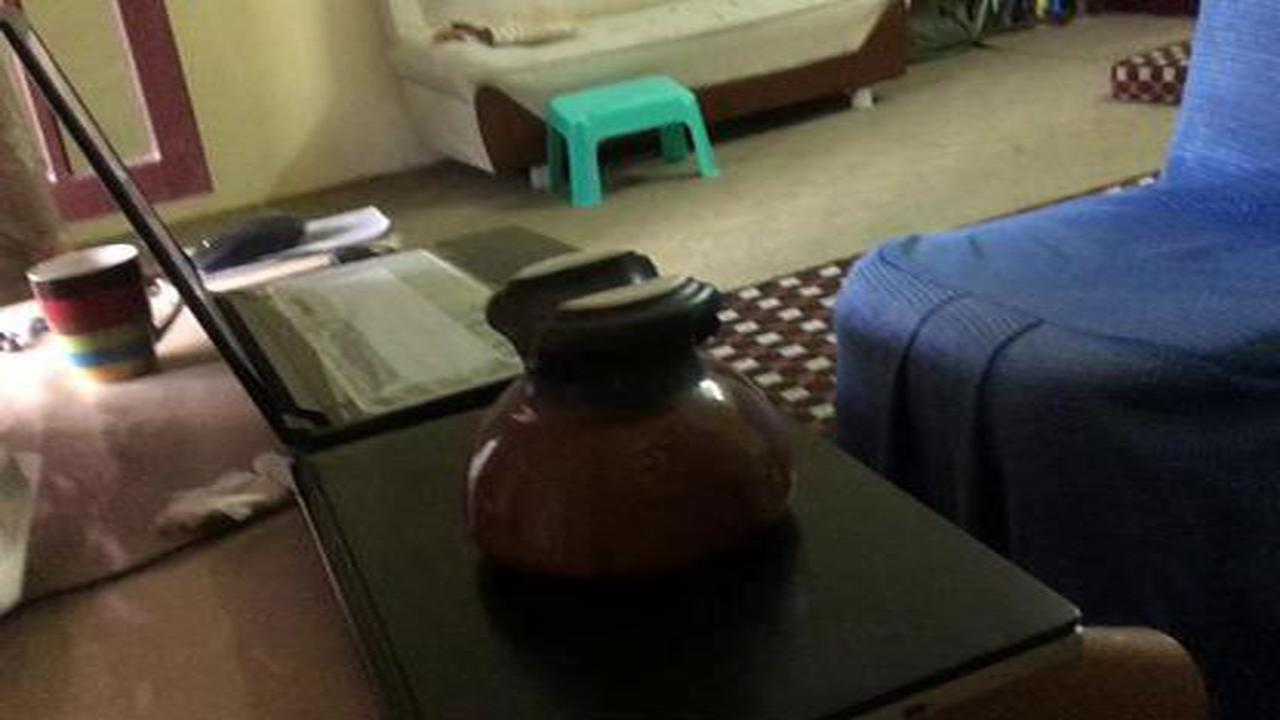insulator_pin: (444, 241, 819, 603)
